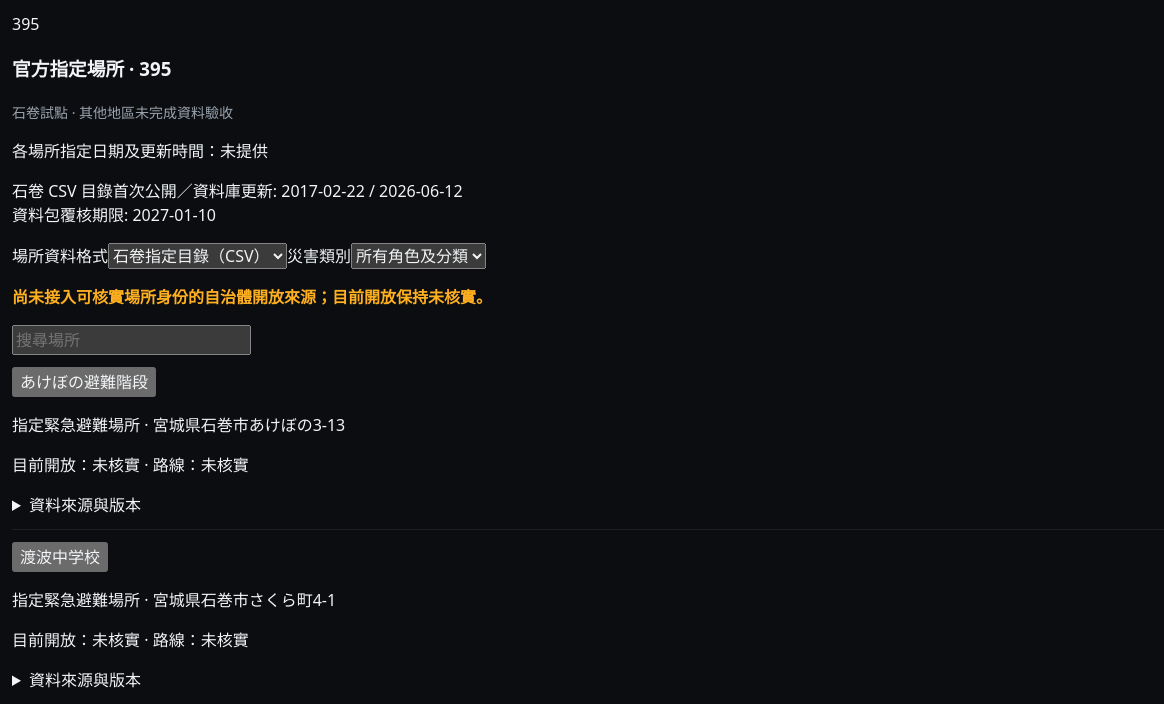
Scenario: GeoJSON missing common IDs and an unavailable earthquake tile stay explicit
Expected: the text with test id "mapped" reads "395", [12,13,40,35]
Select "附近 GeoJSON 圖層" in the dropdown named "場所資料格式" at (198, 256), box [108,242,287,268]
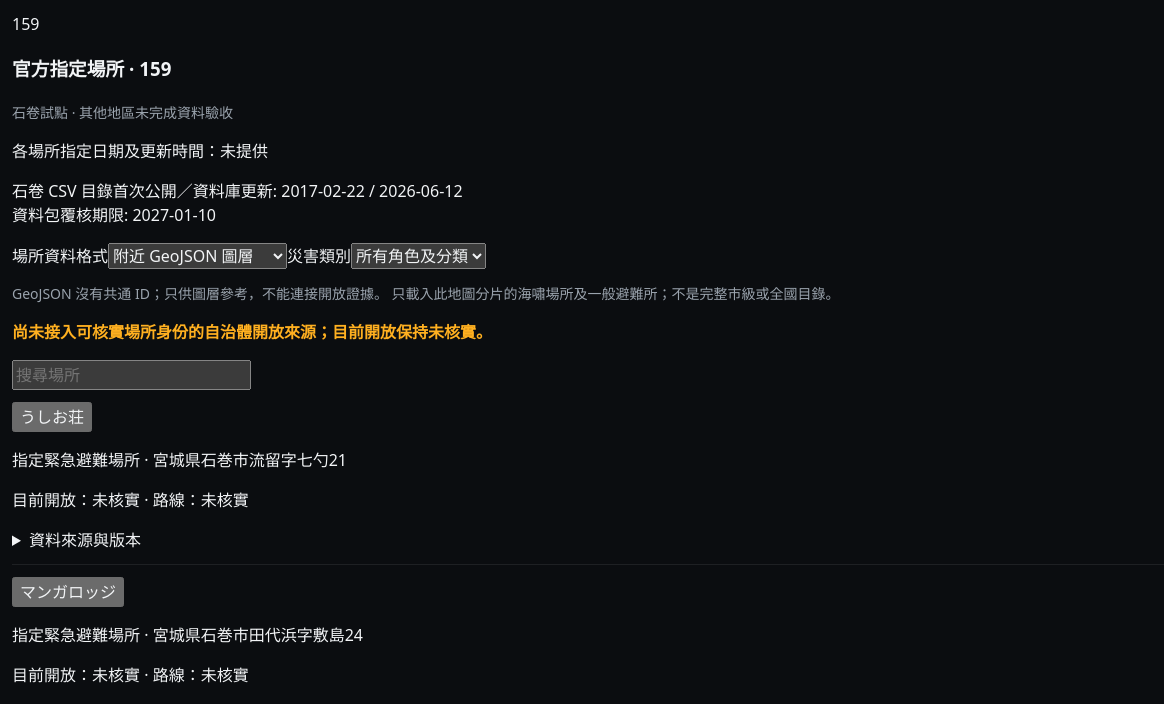
Expected: the text "沒有共通 ID" is shown, [12,284,388,302]
Expected: the text with test id "mapped" reads "159", [12,13,40,35]
Select "地震" in the dropdown named "災害類別" at (418, 256), box [351,242,486,268]
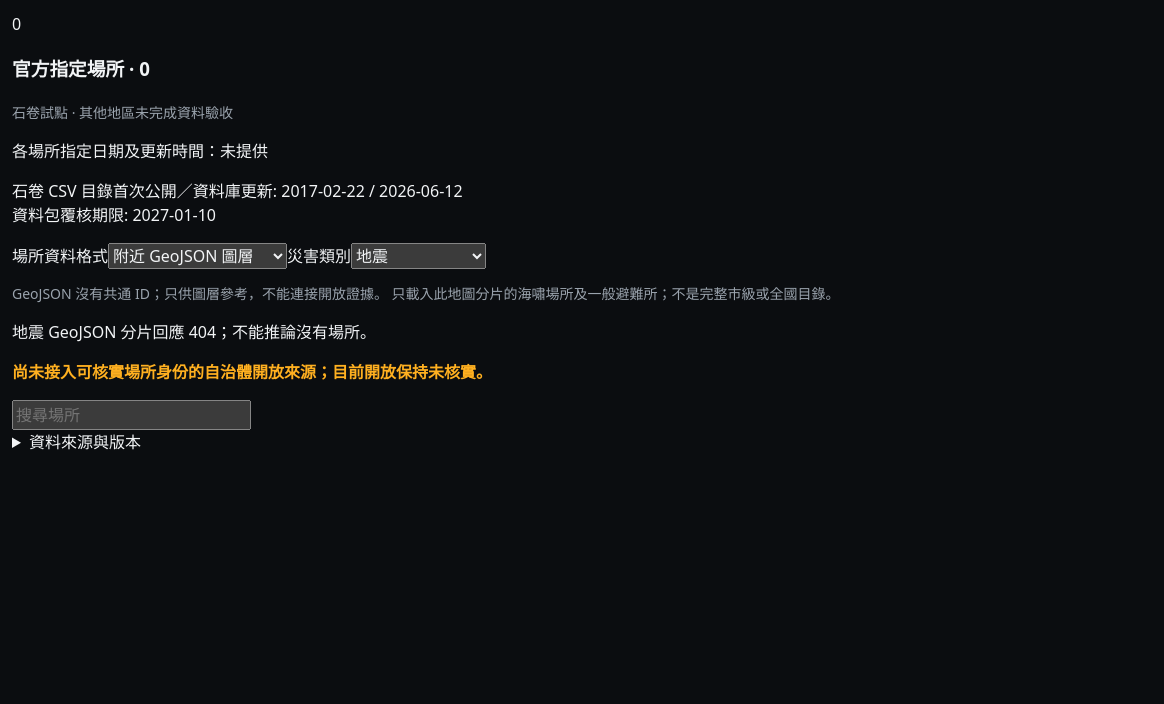
Expected: the text with test id "mapped" reads "0", [12,13,21,35]
Expected: the text "404" is shown, [12,320,376,342]
Expected: the text "不能推論沒有場所" is shown, [12,320,376,342]
